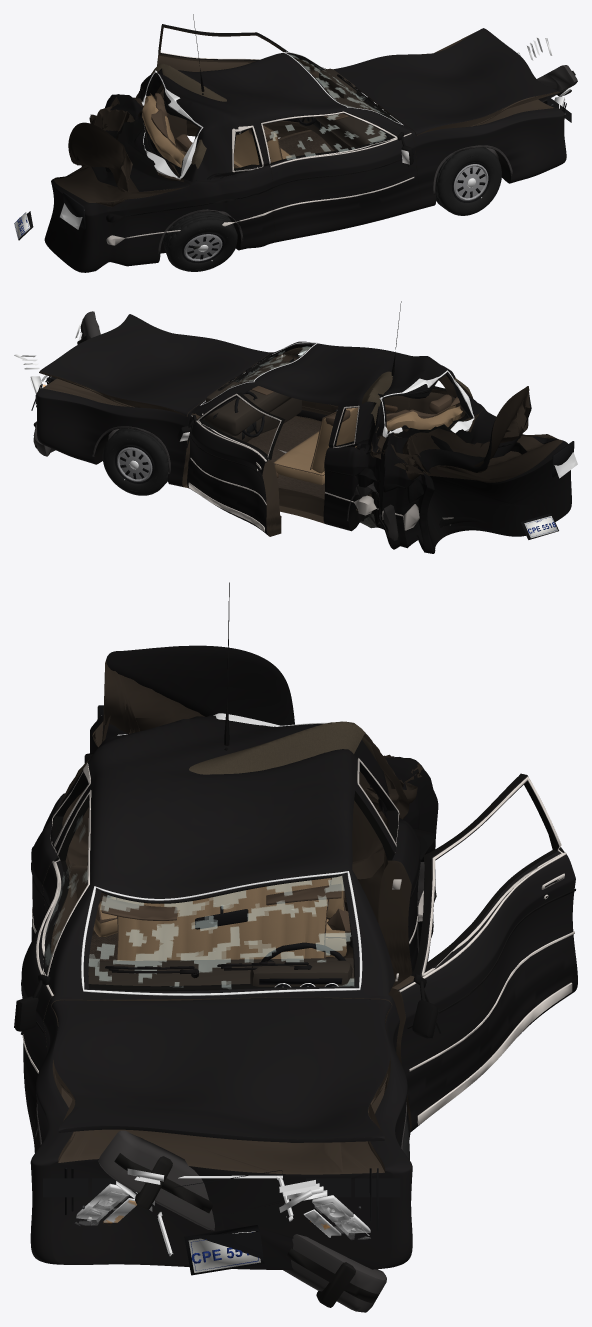
Rendered from coupe84_rear_corner_d3_lod1.glb.
3 renders of one model, top to bottom at view 1: azimuth 30°, elevation 25°; view 2: azimuth 150°, elevation 25°; view 3: azimuth 270°, elevation 25°, orthographic. The views are drawn at different scales.
Visible parts, largest first — view 1: Body, Hood, Door_FR, Trunk, Interior, Wheel_FR_mesh, Wheel_RR_mesh, Door_FL, Trim, Glass, Trim_FR, Ends (+2 smaller); view 2: Body, Hood, Interior, Door_FL, Trunk, Wheel_FL_mesh, Trim, Ends, Glass, Trim_FL, Door_FR, Bumper_F (+1 smaller); view 3: Body, Hood, Door_FL, Interior, Trunk, Ends, Glass, Bumper_F, Trim_FL, Door_FR, Trim, Trim_FR (+1 smaller).
Boxes of the visible parts, box(x1,y1,x2,y2) form: Body: box(44, 52, 566, 272); Hood: box(333, 28, 559, 135); Door_FR: box(260, 111, 420, 242); Trunk: box(68, 94, 189, 193); Interior: box(142, 68, 390, 168); Wheel_FR_mesh: box(435, 147, 501, 215); Wheel_RR_mesh: box(163, 211, 237, 271); Door_FL: box(157, 24, 319, 137); Trim: box(106, 14, 513, 253); Glass: box(141, 51, 403, 179); Trim_FR: box(261, 111, 414, 211); Ends: box(14, 38, 571, 240); Body: box(36, 341, 571, 553); Hood: box(39, 314, 271, 416); Interior: box(203, 358, 462, 484); Door_FL: box(187, 392, 285, 536); Trunk: box(377, 386, 531, 473); Wheel_FL_mesh: box(102, 428, 168, 495); Trim: box(92, 301, 423, 540); Ends: box(14, 324, 577, 539); Glass: box(200, 342, 474, 446); Trim_FL: box(177, 393, 281, 532); Door_FR: box(272, 348, 409, 421); Bumper_F: box(33, 311, 100, 456); Body: box(30, 715, 438, 1270); Hood: box(51, 997, 391, 1142); Door_FL: box(388, 773, 577, 1132); Interior: box(88, 876, 354, 987); Trunk: box(101, 645, 422, 787); Ends: box(43, 705, 400, 1275); Glass: box(53, 713, 398, 995); Bumper_F: box(98, 1130, 386, 1312); Trim_FL: box(395, 776, 575, 1125); Door_FR: box(21, 789, 92, 1136); Trim: box(31, 582, 436, 1150); Trim_FR: box(14, 790, 91, 1073).
Size of the model in its own units: 5.48 by 2.17 by 2.53.
33 materials, 5 textured.
